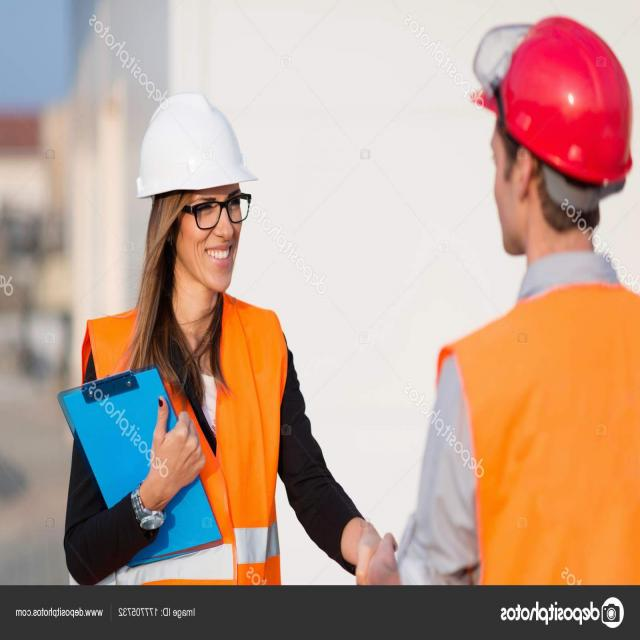Reflective-Jacket: (433, 272, 638, 582), (84, 297, 293, 585)
Safety-Helmet: (483, 11, 639, 194), (132, 88, 258, 203)
